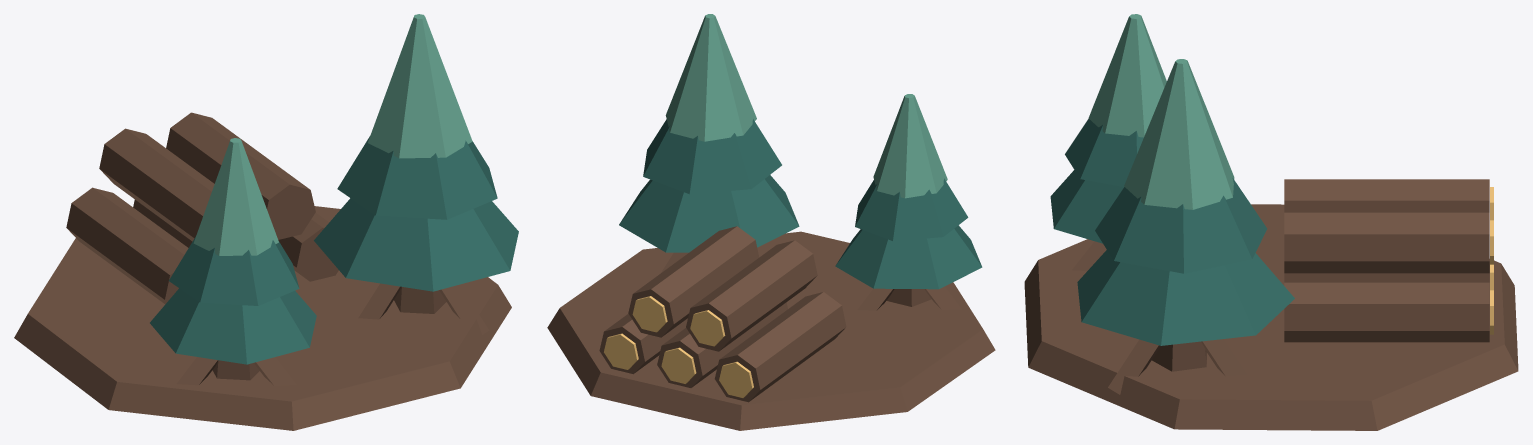
File: Field_Wood.fbx
The picture shows the model from 3 angles, left to right: view 1: azimuth 30°, elevation 25°; view 2: azimuth 150°, elevation 25°; view 3: azimuth 270°, elevation 25°; orthographic projection. The views are drawn at different scales.
Visible parts, largest first — view 1: Field_Wood; view 2: Field_Wood; view 3: Field_Wood.
Boxes of the visible parts, bbox=[...] form: Field_Wood: bbox=[14, 14, 518, 430]; Field_Wood: bbox=[547, 14, 995, 430]; Field_Wood: bbox=[1024, 14, 1518, 430].
Bounding box in the file's own units: 2 × 1.45 × 2.
